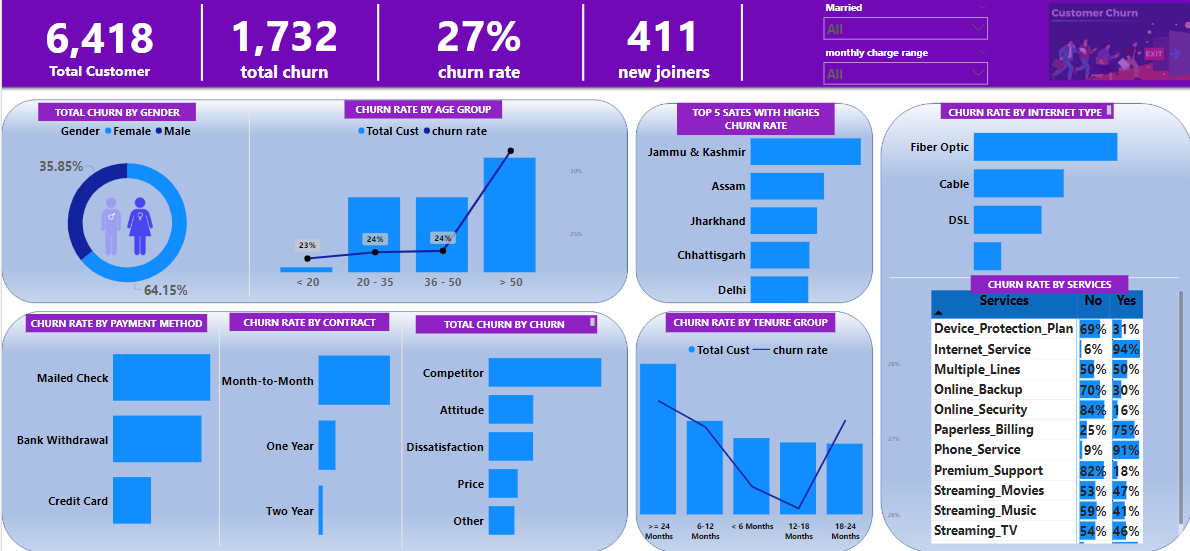

This screenshot's page, from the dashboard's own definition file:
{"tool":"powerbi","page":{"name":"Page 1","canvas":[2240,1134],"ordinal":0},"visuals":[{"type":"card","fields":{"Values":["Customer_Data.new joiners"]},"box":[1071,62.4,350.6,172.9],"z":0},{"type":"card","fields":{"Values":["Customer_Data.churn rate"]},"box":[684.4,62.4,427.4,172.9],"z":1000},{"type":"card","fields":{"Values":["Customer_Data.Total Cust"]},"box":[45.6,62.4,278.6,172.9],"z":2000},{"type":"card","fields":{"Values":["Customer_Data.total churn"]},"box":[374.6,62.4,314.6,172.9],"z":3000},{"type":"donutChart","fields":{"Y":["Customer_Data.total churn"],"Category":["Customer_Data.Gender"]},"box":[21.6,290.6,429.8,357.8],"z":4000},{"type":"lineStackedColumnComboChart","fields":{"Category":["Customer_Data.age group"],"Y":["Customer_Data.Total Cust"],"Y2":["Customer_Data.churn rate"]},"box":[468.3,290.6,650.8,333.8],"z":5000},{"type":"barChart","fields":{"Y":["Customer_Data.churn rate"],"Category":["Customer_Data.Payment_Method"]},"box":[21.6,674.8,386.6,434.6],"z":6000},{"type":"clusteredBarChart","fields":{"Category":["Customer_Data.Contract"],"Y":["Customer_Data.churn rate"]},"box":[408.2,674.8,367.4,458.7],"z":7000},{"type":"lineStackedColumnComboChart","fields":{"Y":["Customer_Data.Total Cust"],"Category":["Customer_Data.Tenure_Month"],"Y2":["Customer_Data.churn rate"]},"box":[1147.9,701.2,554.7,393.8],"z":8000},{"type":"clusteredBarChart","fields":{"Y":["Customer_Data.churn rate"],"Category":["Customer_Data.State"]},"box":[1210.3,290.6,422.6,381.8],"z":8001},{"type":"clusteredBarChart","fields":{"Y":["Customer_Data.total churn"],"Category":["Customer_Data.Churn_Category"]},"box":[756.4,701.2,389,408.2],"z":8002},{"type":"clusteredBarChart","fields":{"Category":["Customer_Data.Internet_Type"],"Y":["Customer_Data.churn rate"]},"box":[1703.2,276.7,459.9,333.7],"z":8003},{"type":"pivotTable","fields":{"Values":["Sum(services.churn status)"],"Rows":["services.Services"],"Columns":["services.status"]},"box":[1729.7,610.5,510.8,486.3],"z":8004},{"type":"slicer","fields":{"Values":["Customer_Data.monthly charge rate "]},"box":[1536.9,148.9,329,86.4],"z":8005},{"type":"slicer","fields":{"Values":["Customer_Data.Married"]},"box":[1536.9,62.4,329,86.4],"z":8006},{"type":"image","box":[87.5,417.2,297.1,150.6],"z":8007},{"type":"shape","box":[232,75.3,286.9,144.5],"z":8008},{"type":"shape","box":[563.7,75.3,286.9,144.5],"z":8009},{"type":"shape","box":[950.3,75.3,286.9,144.5],"z":8010},{"type":"shape","box":[1249.4,75.3,286.9,144.5],"z":8011},{"type":"shape","box":[266.6,673.5,286.9,423.3],"z":8013},{"type":"shape","box":[323.5,276.7,286.9,348],"z":8014},{"type":"shape","box":[610.5,675.6,286.9,423.3],"z":8015},{"type":"shape","box":[1670.6,417.2,545.4,348],"z":8016},{"type":"textbox","box":[67.2,260.5,297.1,34.6],"z":8017},{"type":"textbox","box":[645.1,256.4,297.1,34.6],"z":8018},{"type":"textbox","box":[1271.8,260.5,297.1,61],"z":8019},{"type":"textbox","box":[1766.3,260.5,325.6,30.5],"z":8020},{"type":"textbox","box":[1249.4,657.3,319.5,36.6],"z":8021},{"type":"textbox","box":[1823.1,585.9,297.1,34.6],"z":8022},{"type":"textbox","box":[779.4,661.3,341.9,34.6],"z":8023},{"type":"textbox","box":[427.3,657.3,301.2,34.6],"z":8024},{"type":"textbox","box":[44.8,659.3,341.9,34.6],"z":8025}]}

Visuals, with their boxes on the page's 2240x1134 design canvas (x1, y1, x2, y2). These are canvas units, not pixel positions in the 1190x551 screenshot, which may show the page scaled, cropped or inside an application window:
card - Customer_Data.new joiners: box=[1071, 62, 1422, 235]
card - Customer_Data.churn rate: box=[684, 62, 1112, 235]
card - Customer_Data.Total Cust: box=[46, 62, 324, 235]
card - Customer_Data.total churn: box=[375, 62, 689, 235]
donutChart - Customer_Data.total churn x Customer_Data.Gender: box=[22, 291, 451, 648]
lineStackedColumnComboChart - Customer_Data.age group x Customer_Data.Total Cust: box=[468, 291, 1119, 624]
barChart - Customer_Data.churn rate x Customer_Data.Payment_Method: box=[22, 675, 408, 1109]
clusteredBarChart - Customer_Data.Contract x Customer_Data.churn rate: box=[408, 675, 776, 1134]
lineStackedColumnComboChart - Customer_Data.Total Cust x Customer_Data.Tenure_Month: box=[1148, 701, 1703, 1095]
clusteredBarChart - Customer_Data.churn rate x Customer_Data.State: box=[1210, 291, 1633, 672]
clusteredBarChart - Customer_Data.total churn x Customer_Data.Churn_Category: box=[756, 701, 1145, 1109]
clusteredBarChart - Customer_Data.Internet_Type x Customer_Data.churn rate: box=[1703, 277, 2163, 610]
pivotTable - Sum(services.churn status) x services.Services: box=[1730, 610, 2240, 1097]
slicer - Customer_Data.monthly charge rate : box=[1537, 149, 1866, 235]
slicer - Customer_Data.Married: box=[1537, 62, 1866, 149]
image: box=[88, 417, 385, 568]
shape: box=[232, 75, 519, 220]
shape: box=[564, 75, 851, 220]
shape: box=[950, 75, 1237, 220]
shape: box=[1249, 75, 1536, 220]
shape: box=[267, 674, 554, 1097]
shape: box=[324, 277, 610, 625]
shape: box=[610, 676, 897, 1099]
shape: box=[1671, 417, 2216, 765]
textbox: box=[67, 260, 364, 295]
textbox: box=[645, 256, 942, 291]
textbox: box=[1272, 260, 1569, 322]
textbox: box=[1766, 260, 2092, 291]
textbox: box=[1249, 657, 1569, 694]
textbox: box=[1823, 586, 2120, 620]
textbox: box=[779, 661, 1121, 696]
textbox: box=[427, 657, 728, 692]
textbox: box=[45, 659, 387, 694]
